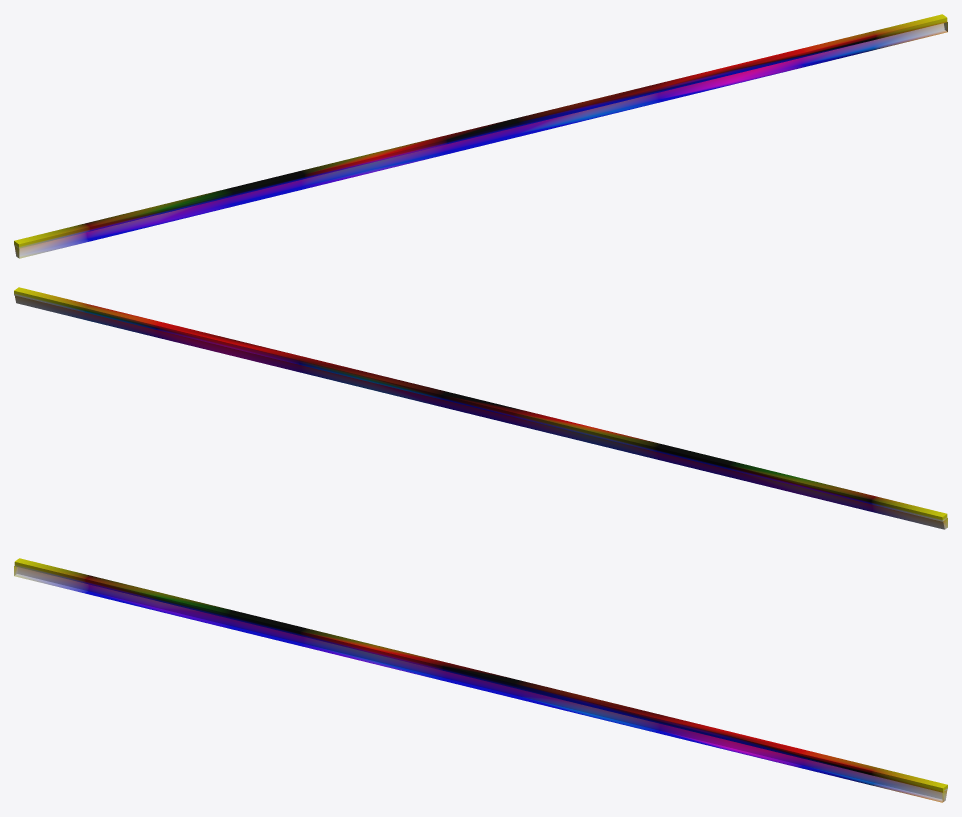
File: Bridge_Curb_demo.fbx
The picture shows the model from 3 angles, top to bottom: view 1: azimuth 30°, elevation 25°; view 2: azimuth 150°, elevation 25°; view 3: azimuth 330°, elevation 25°; orthographic projection.
Parts seen in each view (by area): view 1: Bridge_Curb_demo; view 2: Bridge_Curb_demo; view 3: Bridge_Curb_demo.
Boxes of the visible parts, box(x1,y1,x2,y2) form: Bridge_Curb_demo: box(14, 14, 947, 258); Bridge_Curb_demo: box(14, 287, 947, 529); Bridge_Curb_demo: box(14, 558, 947, 802).
Bounding box in the file's own units: 5184 × 75 × 51.88.
